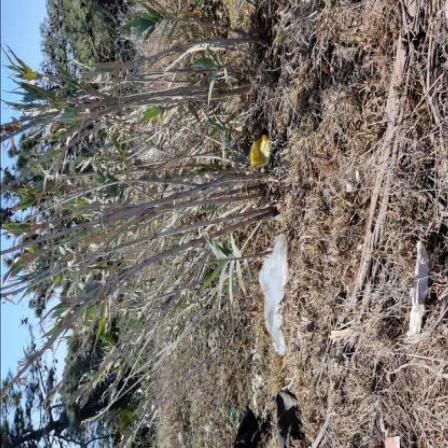Plastic bag - wrapper: (259, 237, 289, 357), (250, 136, 271, 172), (380, 408, 390, 438), (209, 332, 217, 353)
Unlabeled litter: (408, 242, 429, 340), (275, 391, 301, 448), (252, 340, 264, 421), (347, 171, 359, 193), (231, 407, 240, 430), (292, 328, 300, 350), (384, 438, 401, 448)
